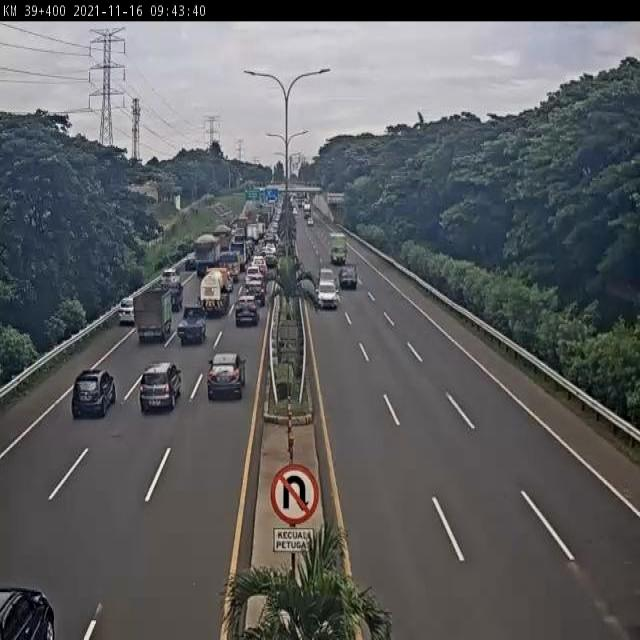Car: (0, 584, 56, 640), (69, 368, 116, 418), (138, 361, 180, 414), (206, 351, 247, 399), (234, 295, 261, 328), (315, 281, 339, 308), (117, 297, 137, 323), (338, 265, 358, 290), (246, 278, 265, 304), (160, 268, 180, 290), (244, 266, 266, 282), (307, 216, 314, 225)
Truck: (133, 287, 173, 339), (199, 266, 232, 317), (192, 232, 221, 276), (177, 305, 207, 345), (327, 230, 348, 264), (214, 223, 232, 250), (168, 282, 184, 310), (246, 222, 262, 243), (303, 203, 312, 219)
